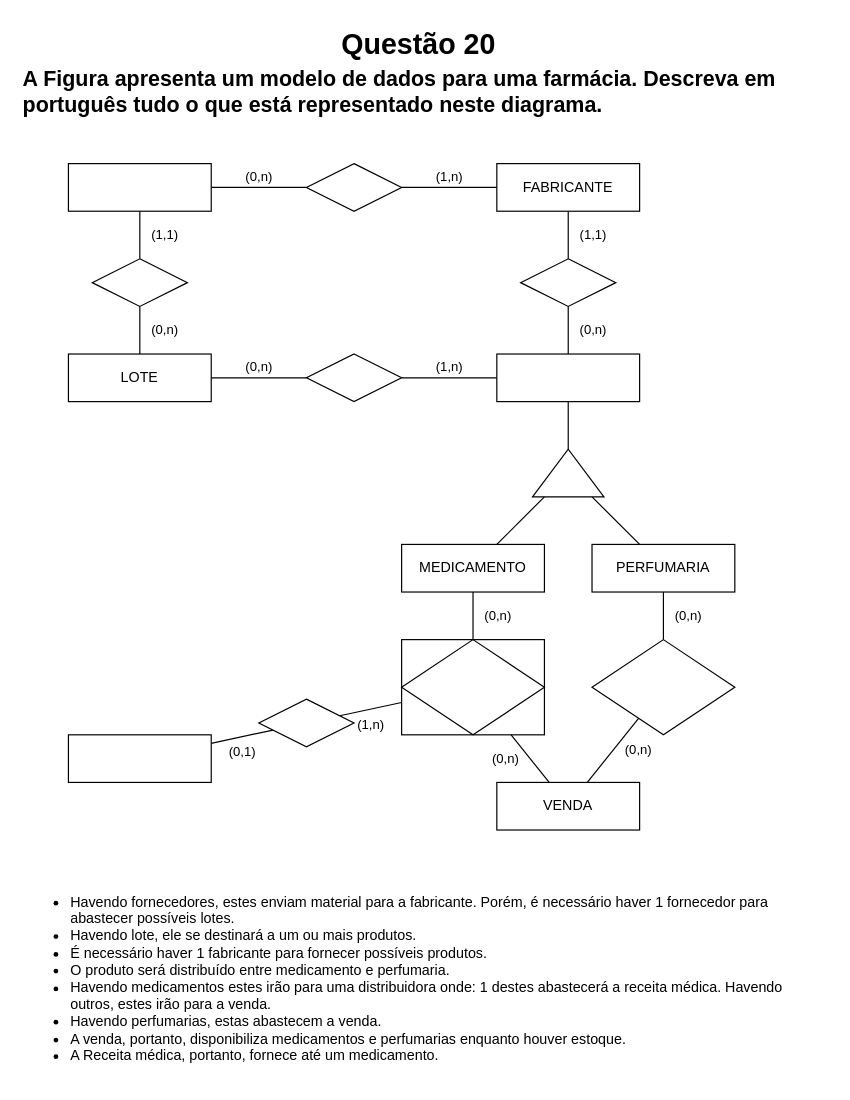
This 850x1100 diagram has some shape labels left out. The shapes that lost their labels are listed below. From the top down, each one's box as (x1, y1, x2, y2) in pixels, then its label:
(67, 162, 211, 211): FORNECEDOR
(496, 353, 640, 402): PRODUTO
(67, 734, 211, 782): RECEITA MÉDICA
